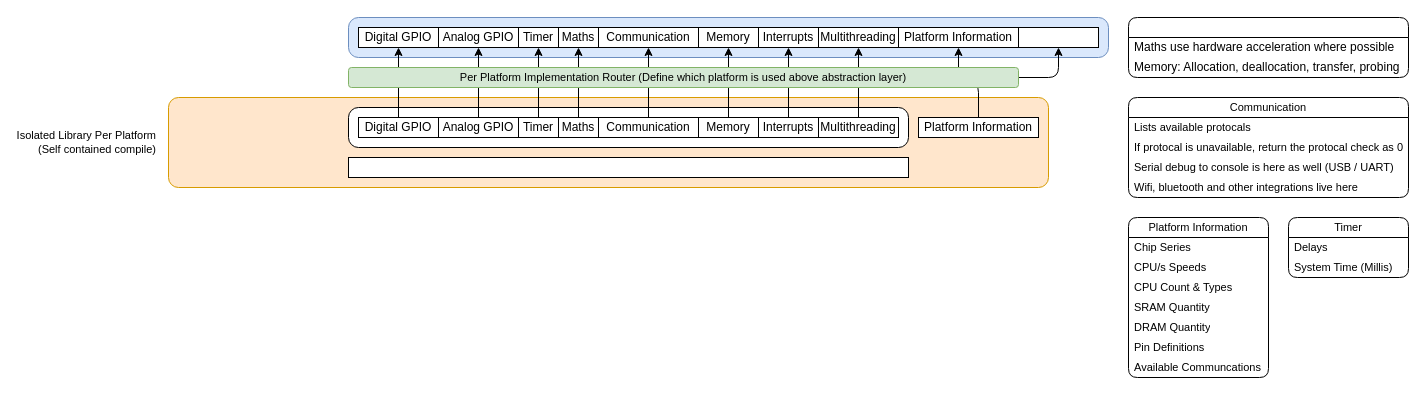
The diagram is 1426 pixels wide and 395 high, and some of its shapes have lost their labels. Here are the shapes that lost their labels. From the top down, the box of each, then its label:
(348, 16, 1108, 58): Hardware Abstraction Layer API (Virtual Functions)
(1018, 26, 1098, 48): Platform List
(1128, 16, 1408, 78): HAL (Notes)
(348, 106, 908, 148): Implementations (Making each platform's HAL Compatible with ARCOS HAL)
(348, 156, 908, 178): Platform HALs (Respective builtin hals)
